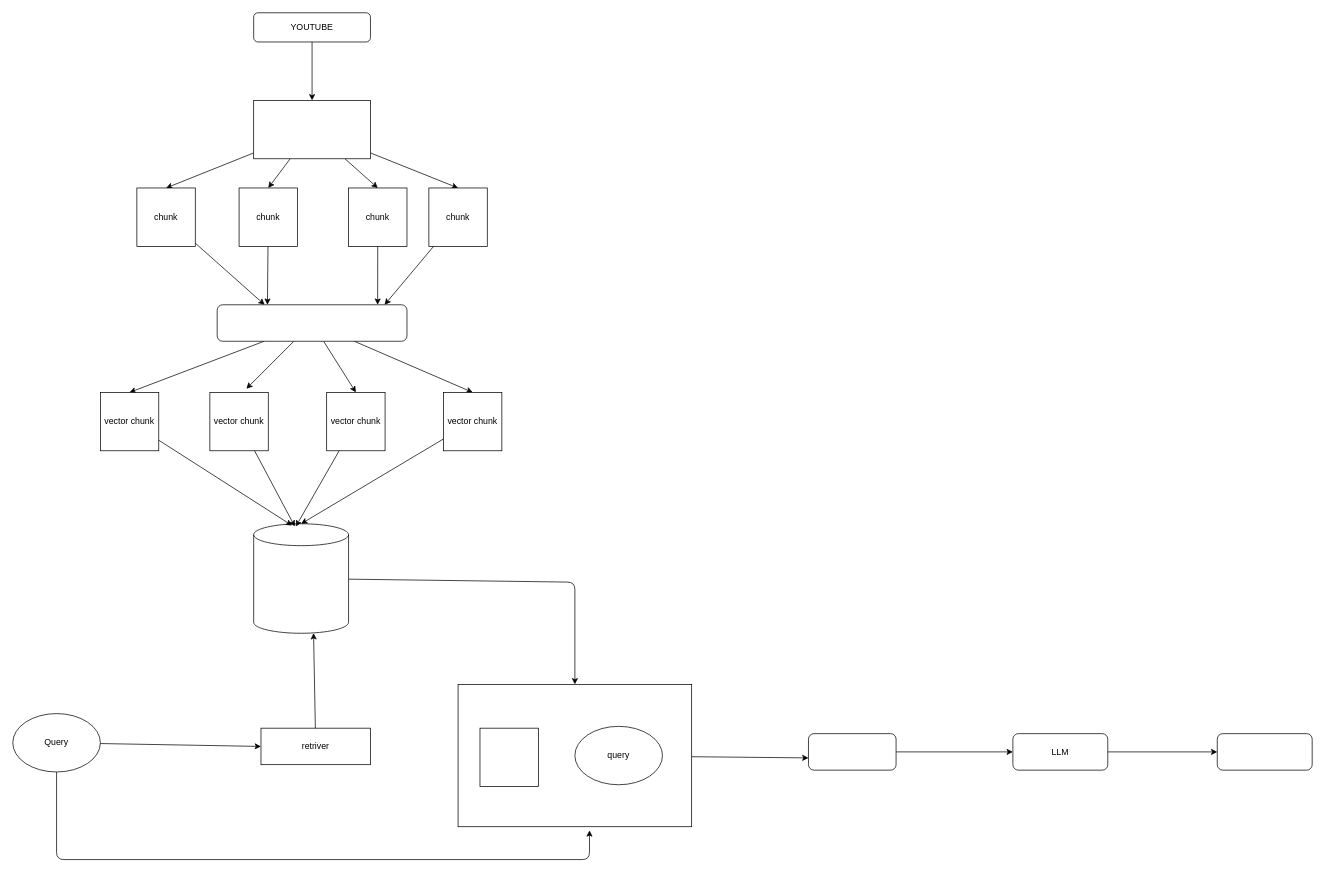
Image size: 1325x878. Some labels were removed from this diagram. The box of each missing label's shape, as (x1, y1, x2, y2) in pixels:
Embedding model: (216, 304, 407, 341)
prompt: (808, 733, 896, 770)
relavant chunk: (479, 727, 538, 787)
Response: (1217, 733, 1312, 770)
TEXT: (253, 100, 370, 159)
vector store: (253, 523, 349, 633)
